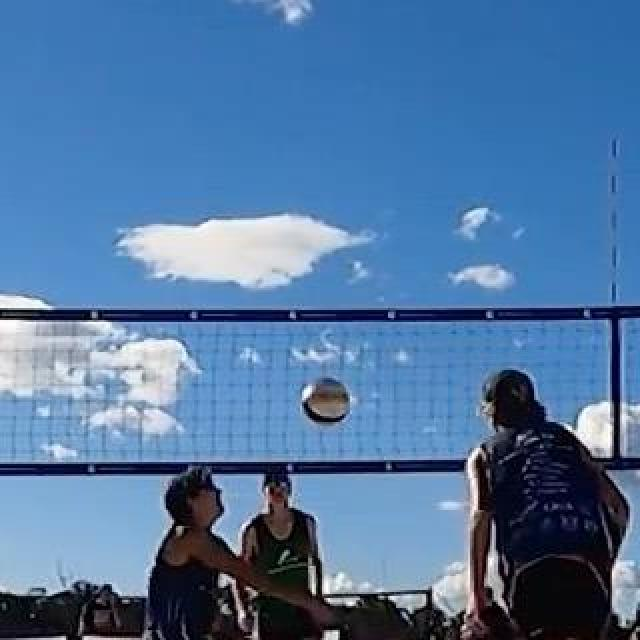volleyball: (301, 379, 347, 427)
